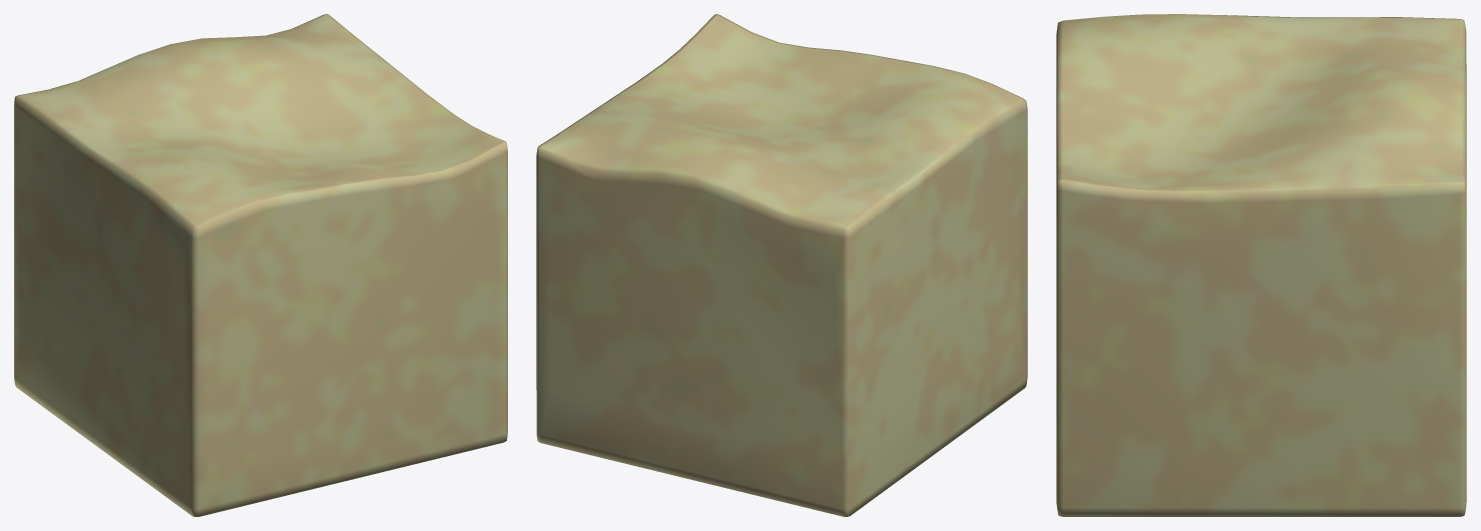
The model's file is blocks_suna.fbx.
3 renders of one model, left to right at view 1: azimuth 30°, elevation 25°; view 2: azimuth 150°, elevation 25°; view 3: azimuth 270°, elevation 25°, orthographic. The views are drawn at different scales.
Parts seen in each view (by area): view 1: suna; view 2: suna; view 3: suna.
Part boxes in pixels (box(x1,y1,x2,y2)): suna: box(14, 14, 507, 516); suna: box(536, 14, 1027, 516); suna: box(1056, 14, 1466, 516).
Size of the model in its own units: 80.74 by 76.31 by 80.72.
